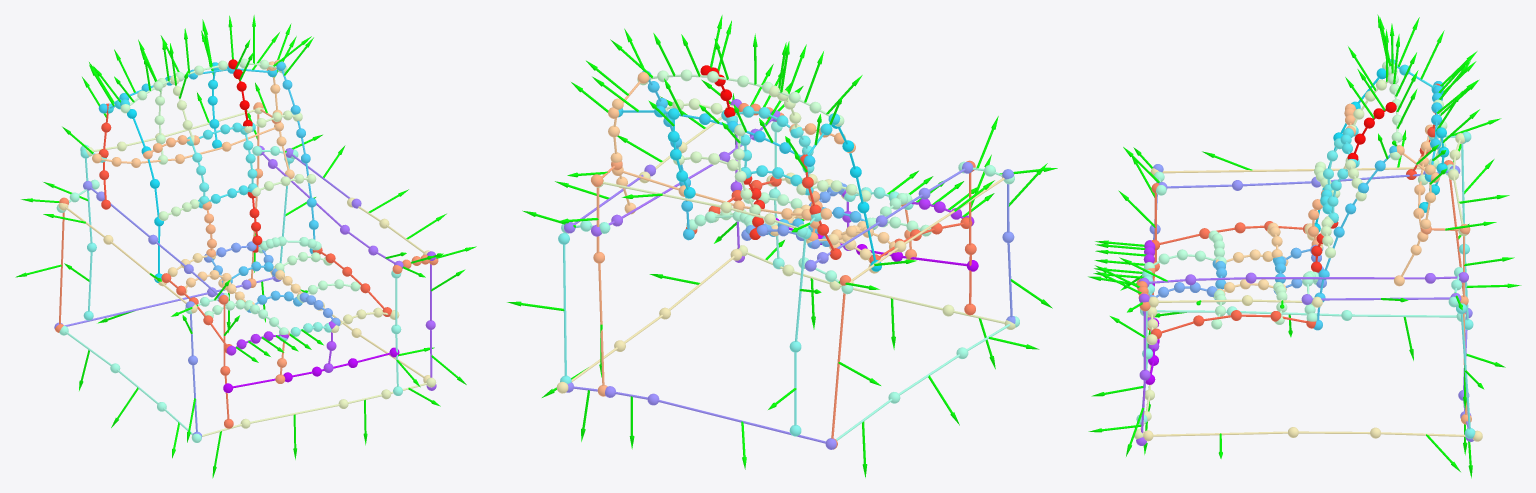
File: author2_sofa.gltf
The picture shows the model from 3 angles, left to right: view 1: azimuth 30°, elevation 25°; view 2: azimuth 150°, elevation 25°; view 3: azimuth 270°, elevation 25°; orthographic projection. The views are drawn at different scales.
Bounding box in the file's own units: 0.7168 × 0.7703 × 0.7836.
